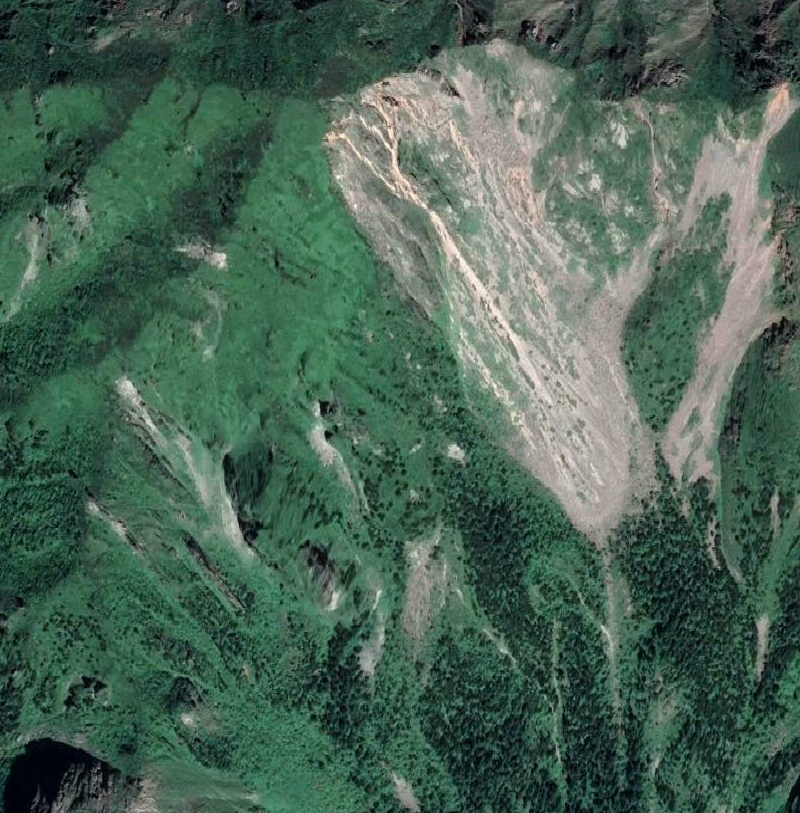slope: (320, 41, 683, 546), (660, 80, 796, 566)
